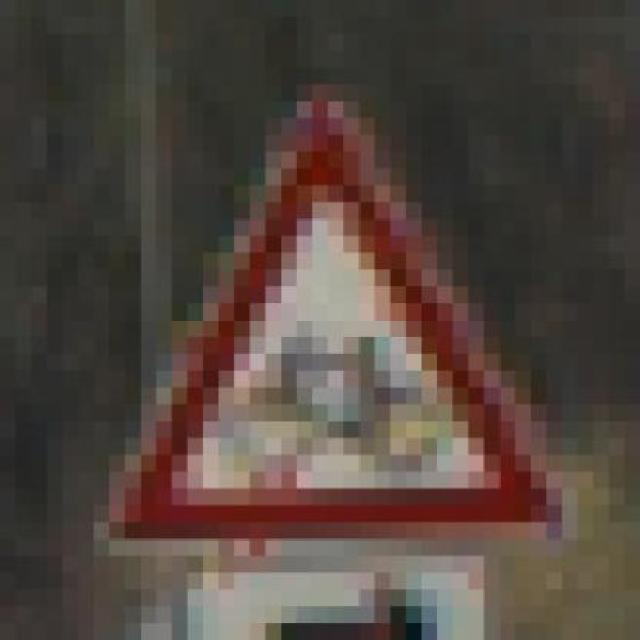CYCLE ROUTE AHEAD WARNING: (78, 67, 593, 556)
